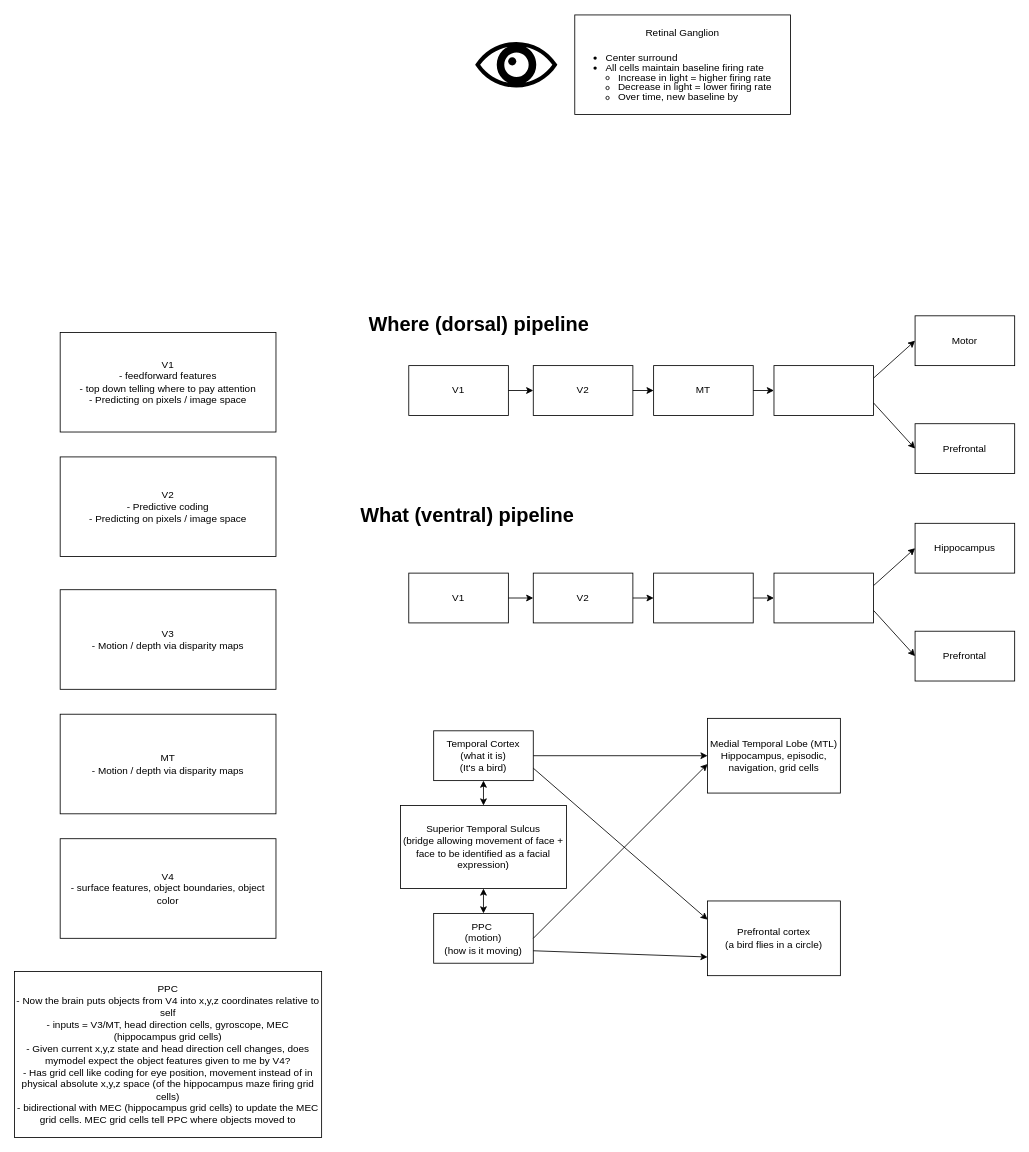
Some shapes in this 1029 by 1152 pixel diagram are drawn without their labels. The shapes that lost their labels are listed below. From the top down, each one's centre as x and y in pixels, then its label:
At point (823, 390): "PPC".
At point (703, 597): "V4".
At point (823, 597): "Temporal Cortex".
